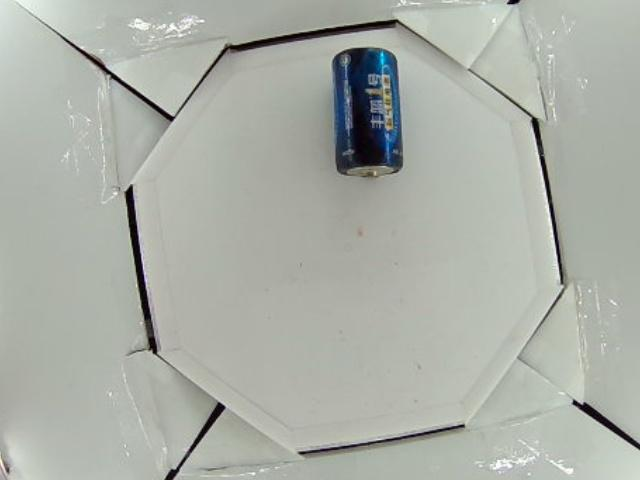Battery: (331, 47, 403, 179)
